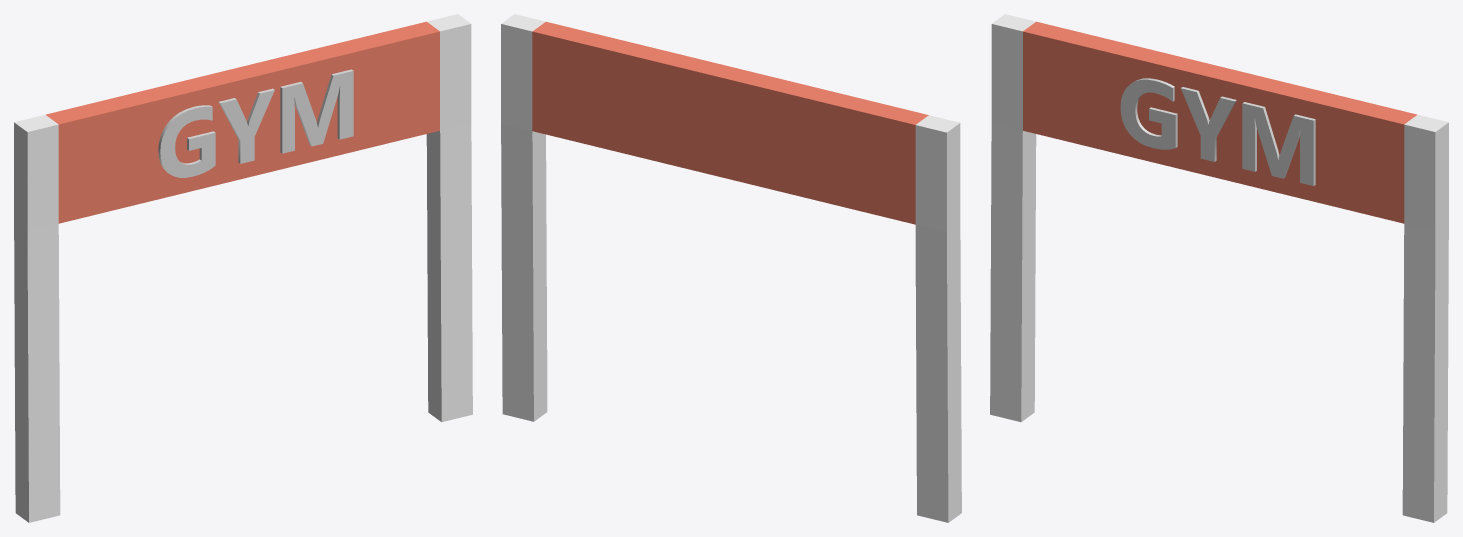
Rendered from Gym_Gate.fbx.
The picture shows the model from 3 angles, left to right: view 1: azimuth 30°, elevation 25°; view 2: azimuth 150°, elevation 25°; view 3: azimuth 330°, elevation 25°; orthographic projection.
Parts seen in each view (by area): view 1: Gym_Gate; view 2: Gym_Gate; view 3: Gym_Gate.
Boxes of the visible parts, x1,y1,x2,y2 form: Gym_Gate: [14, 14, 472, 522]; Gym_Gate: [501, 14, 961, 522]; Gym_Gate: [990, 14, 1448, 522].
Bounding box in the file's own units: 18.23 × 15.29 × 1.1.
Materials: 2 (1 with a texture image).
